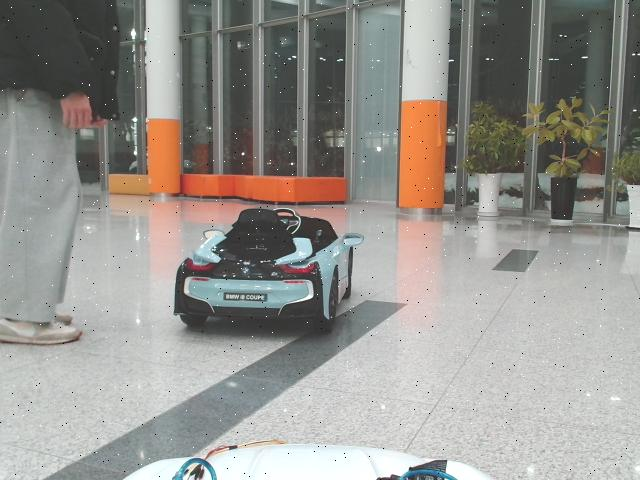car: (174, 207, 365, 332)
